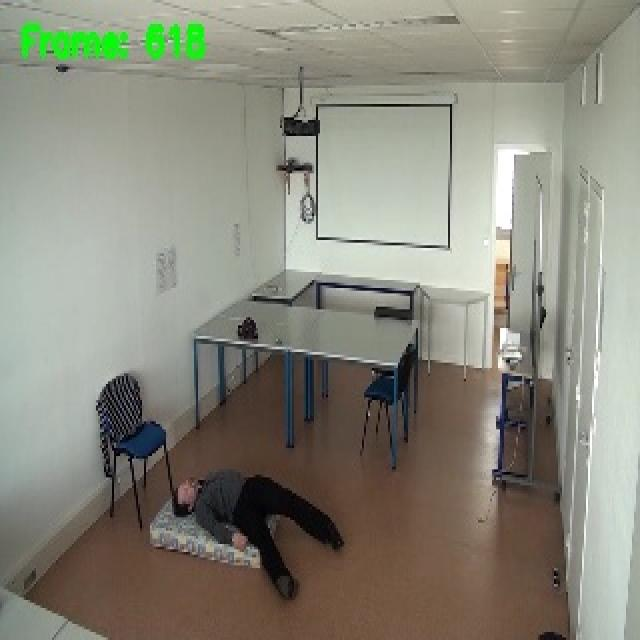Fall-Detected: (167, 463, 349, 606)
